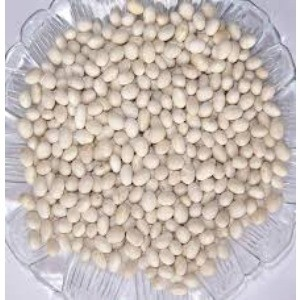beans_brain food: (77, 103, 226, 195)
